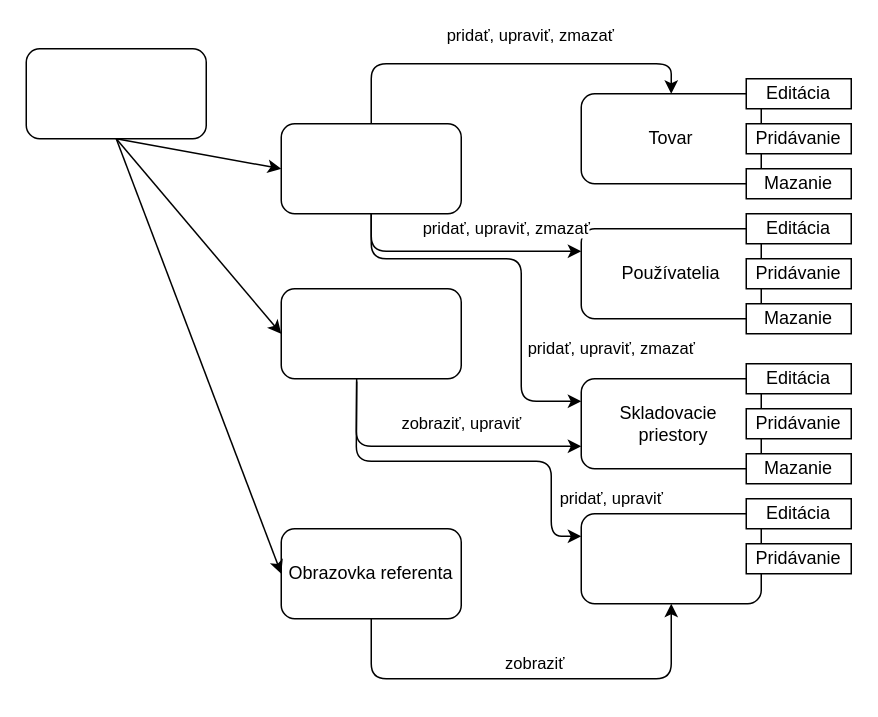
Some shapes in this 878 by 717 pixel diagram are drawn without their labels. The shapes that lost their labels are listed below. From the top down, each one's centre as x and y in pixels, then its label:
At point 115,93: "Prihlasovacia obrazovka".
At point 370,168: "Obrazovka administrátora".
At point 370,333: "Obrazovka skladníka".
At point 670,558: "Položky".
